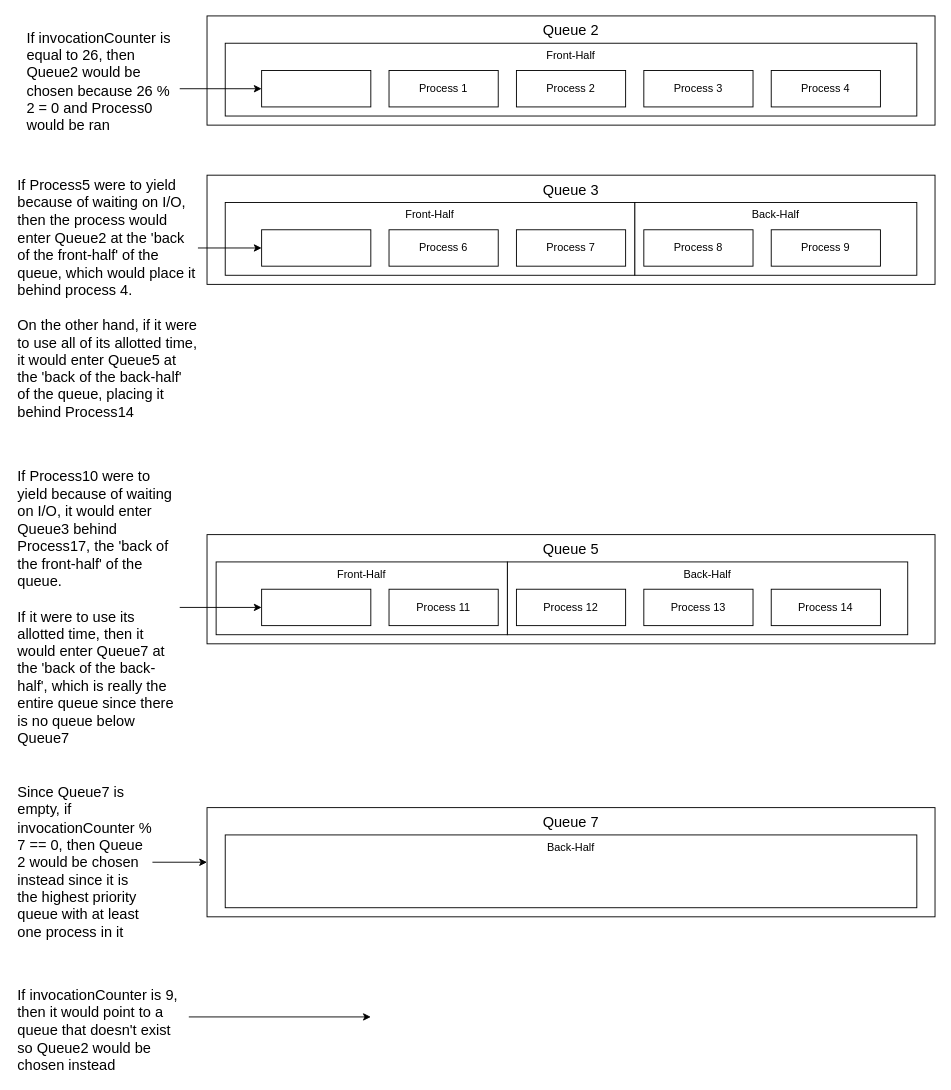
Image size: 951x1090. Some labels were removed from this diagram. Each missing label, with the centre of its shape:
Process 0: (x=316, y=88)
Process 10: (x=316, y=607)
Process 5: (x=316, y=247)
